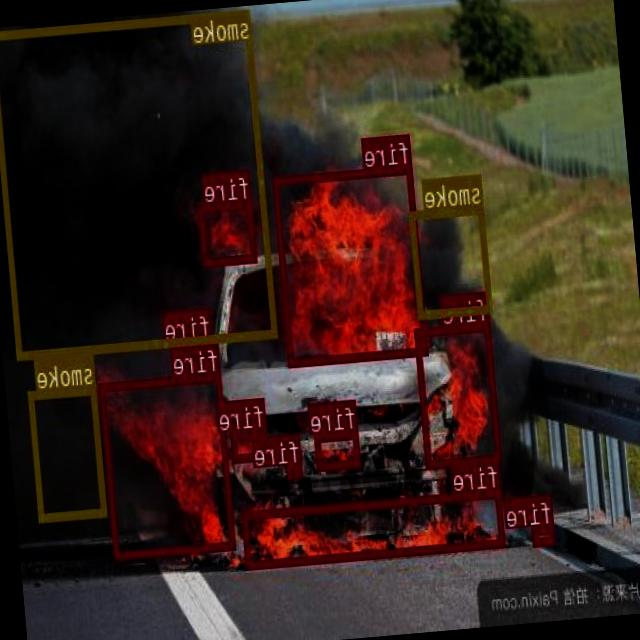fire: (274, 163, 429, 364), (99, 371, 236, 559), (242, 488, 506, 567), (415, 321, 503, 466), (199, 198, 257, 264), (315, 429, 362, 468), (232, 427, 270, 461), (192, 338, 216, 372), (533, 522, 556, 544), (288, 463, 304, 477)
smoke: (0, 7, 278, 357), (28, 385, 108, 520), (410, 205, 493, 316)
